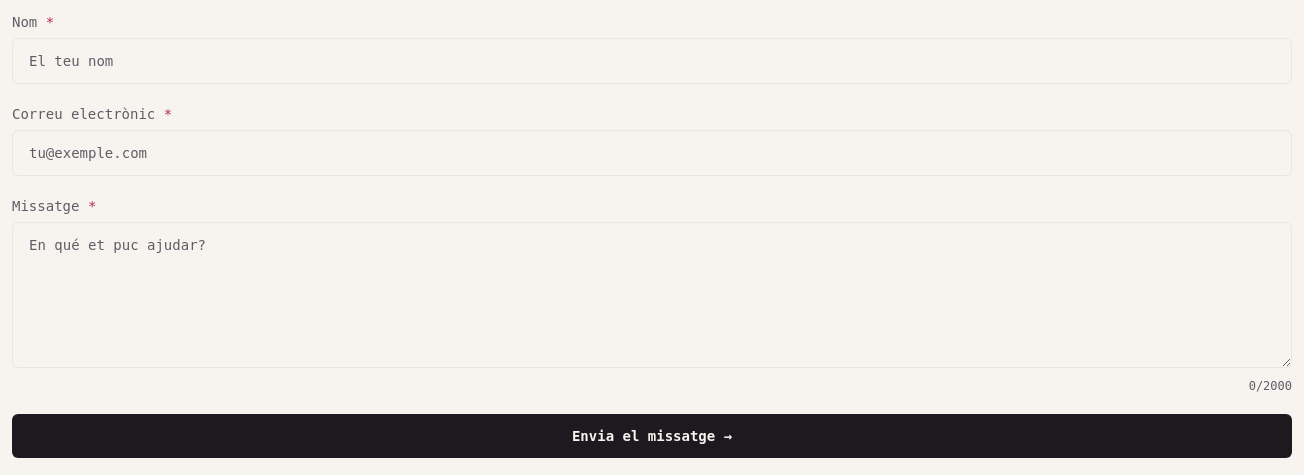
it: ContactForm — sending state › shows 'Enviant...' and disables button while sending
Type "Test" into the field labelled "Nom *" at (652, 61), box [12,38,1292,84]
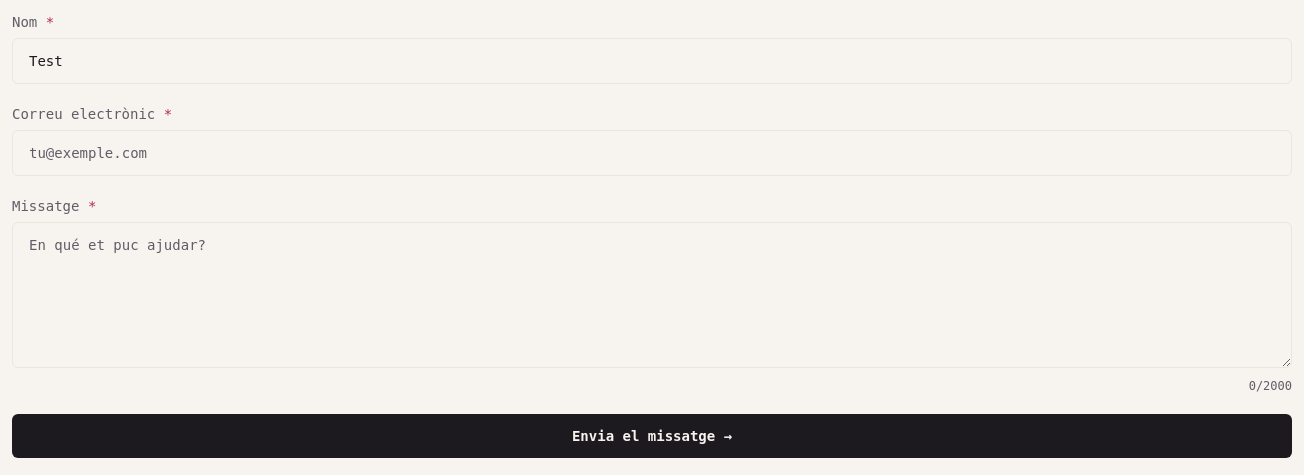
Type "test@test.com" into the field labelled "Correu electrònic *" at (652, 153), box [12,130,1292,176]
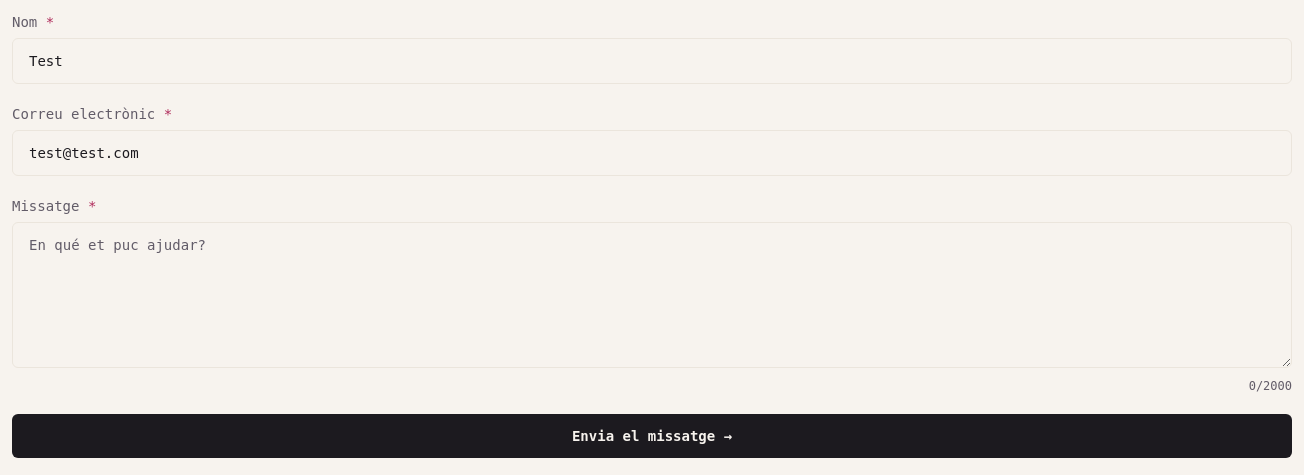
Type "Test message" into the text box labelled "Missatge *" at (652, 295), box [12,222,1292,368]
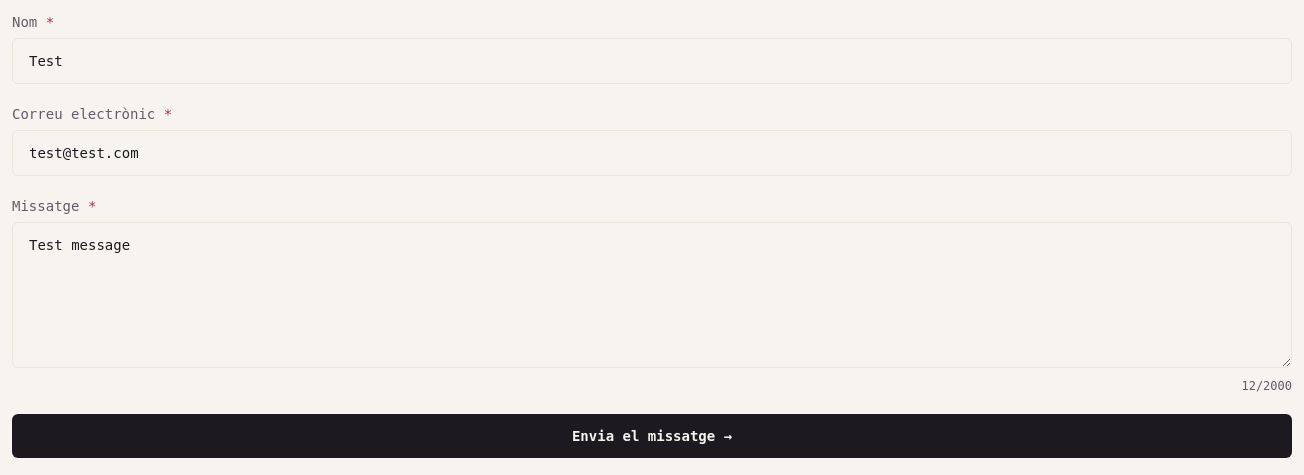
Note: Submit but don't await resolution — check intermediate state
Submit the form
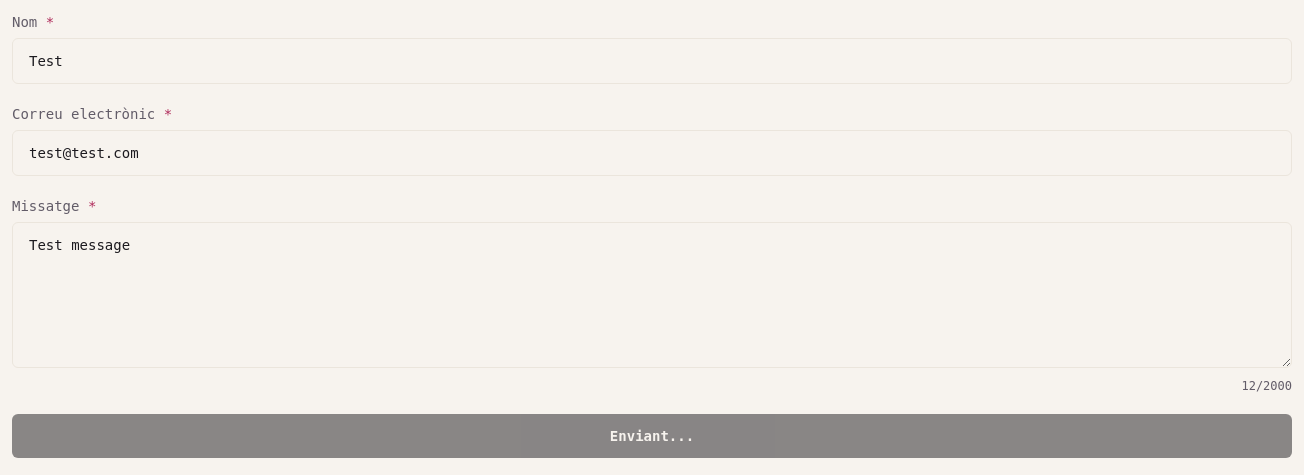
Expected: the button "Enviant..." is disabled, [12,414,1292,458]
